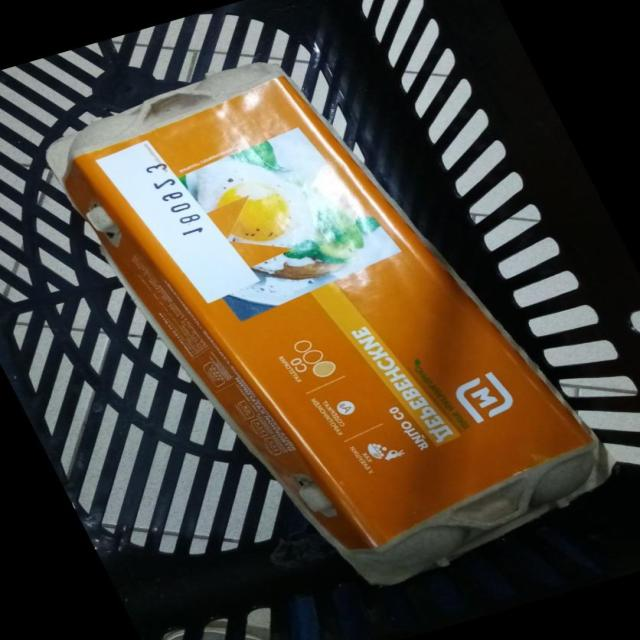Eggs: (46, 63, 610, 584)
